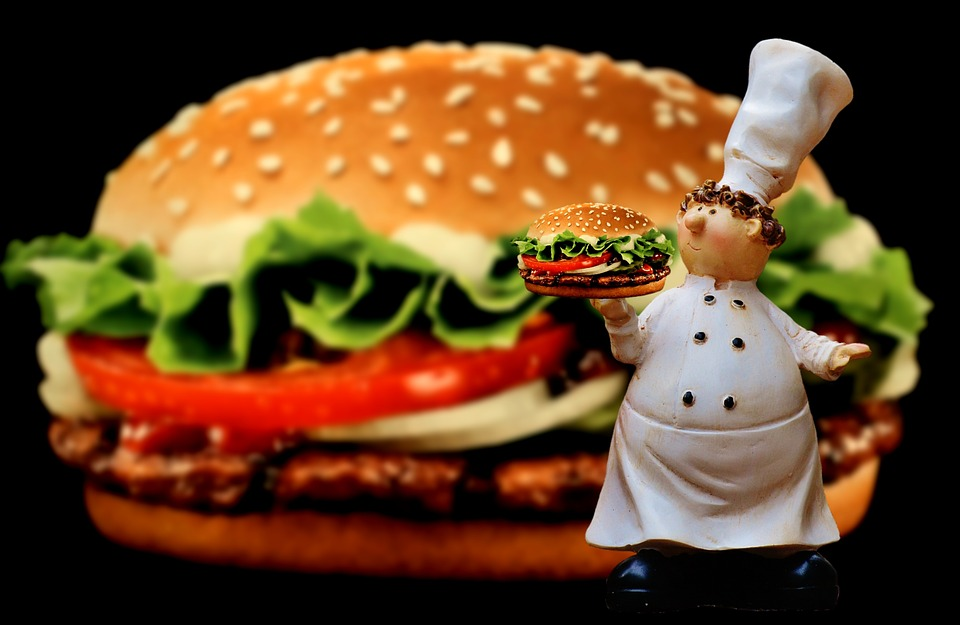hamburger: (47, 53, 931, 599), (509, 205, 683, 305)
